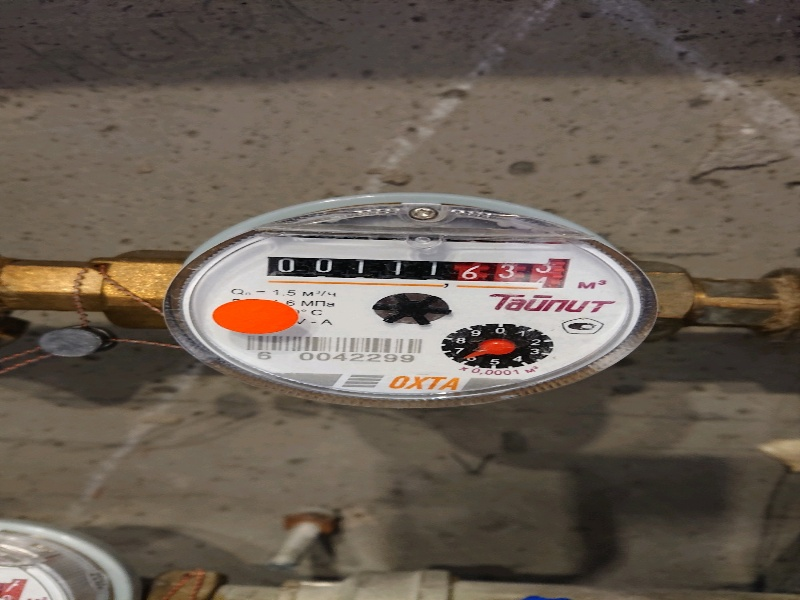meter: (263, 244, 559, 297)
